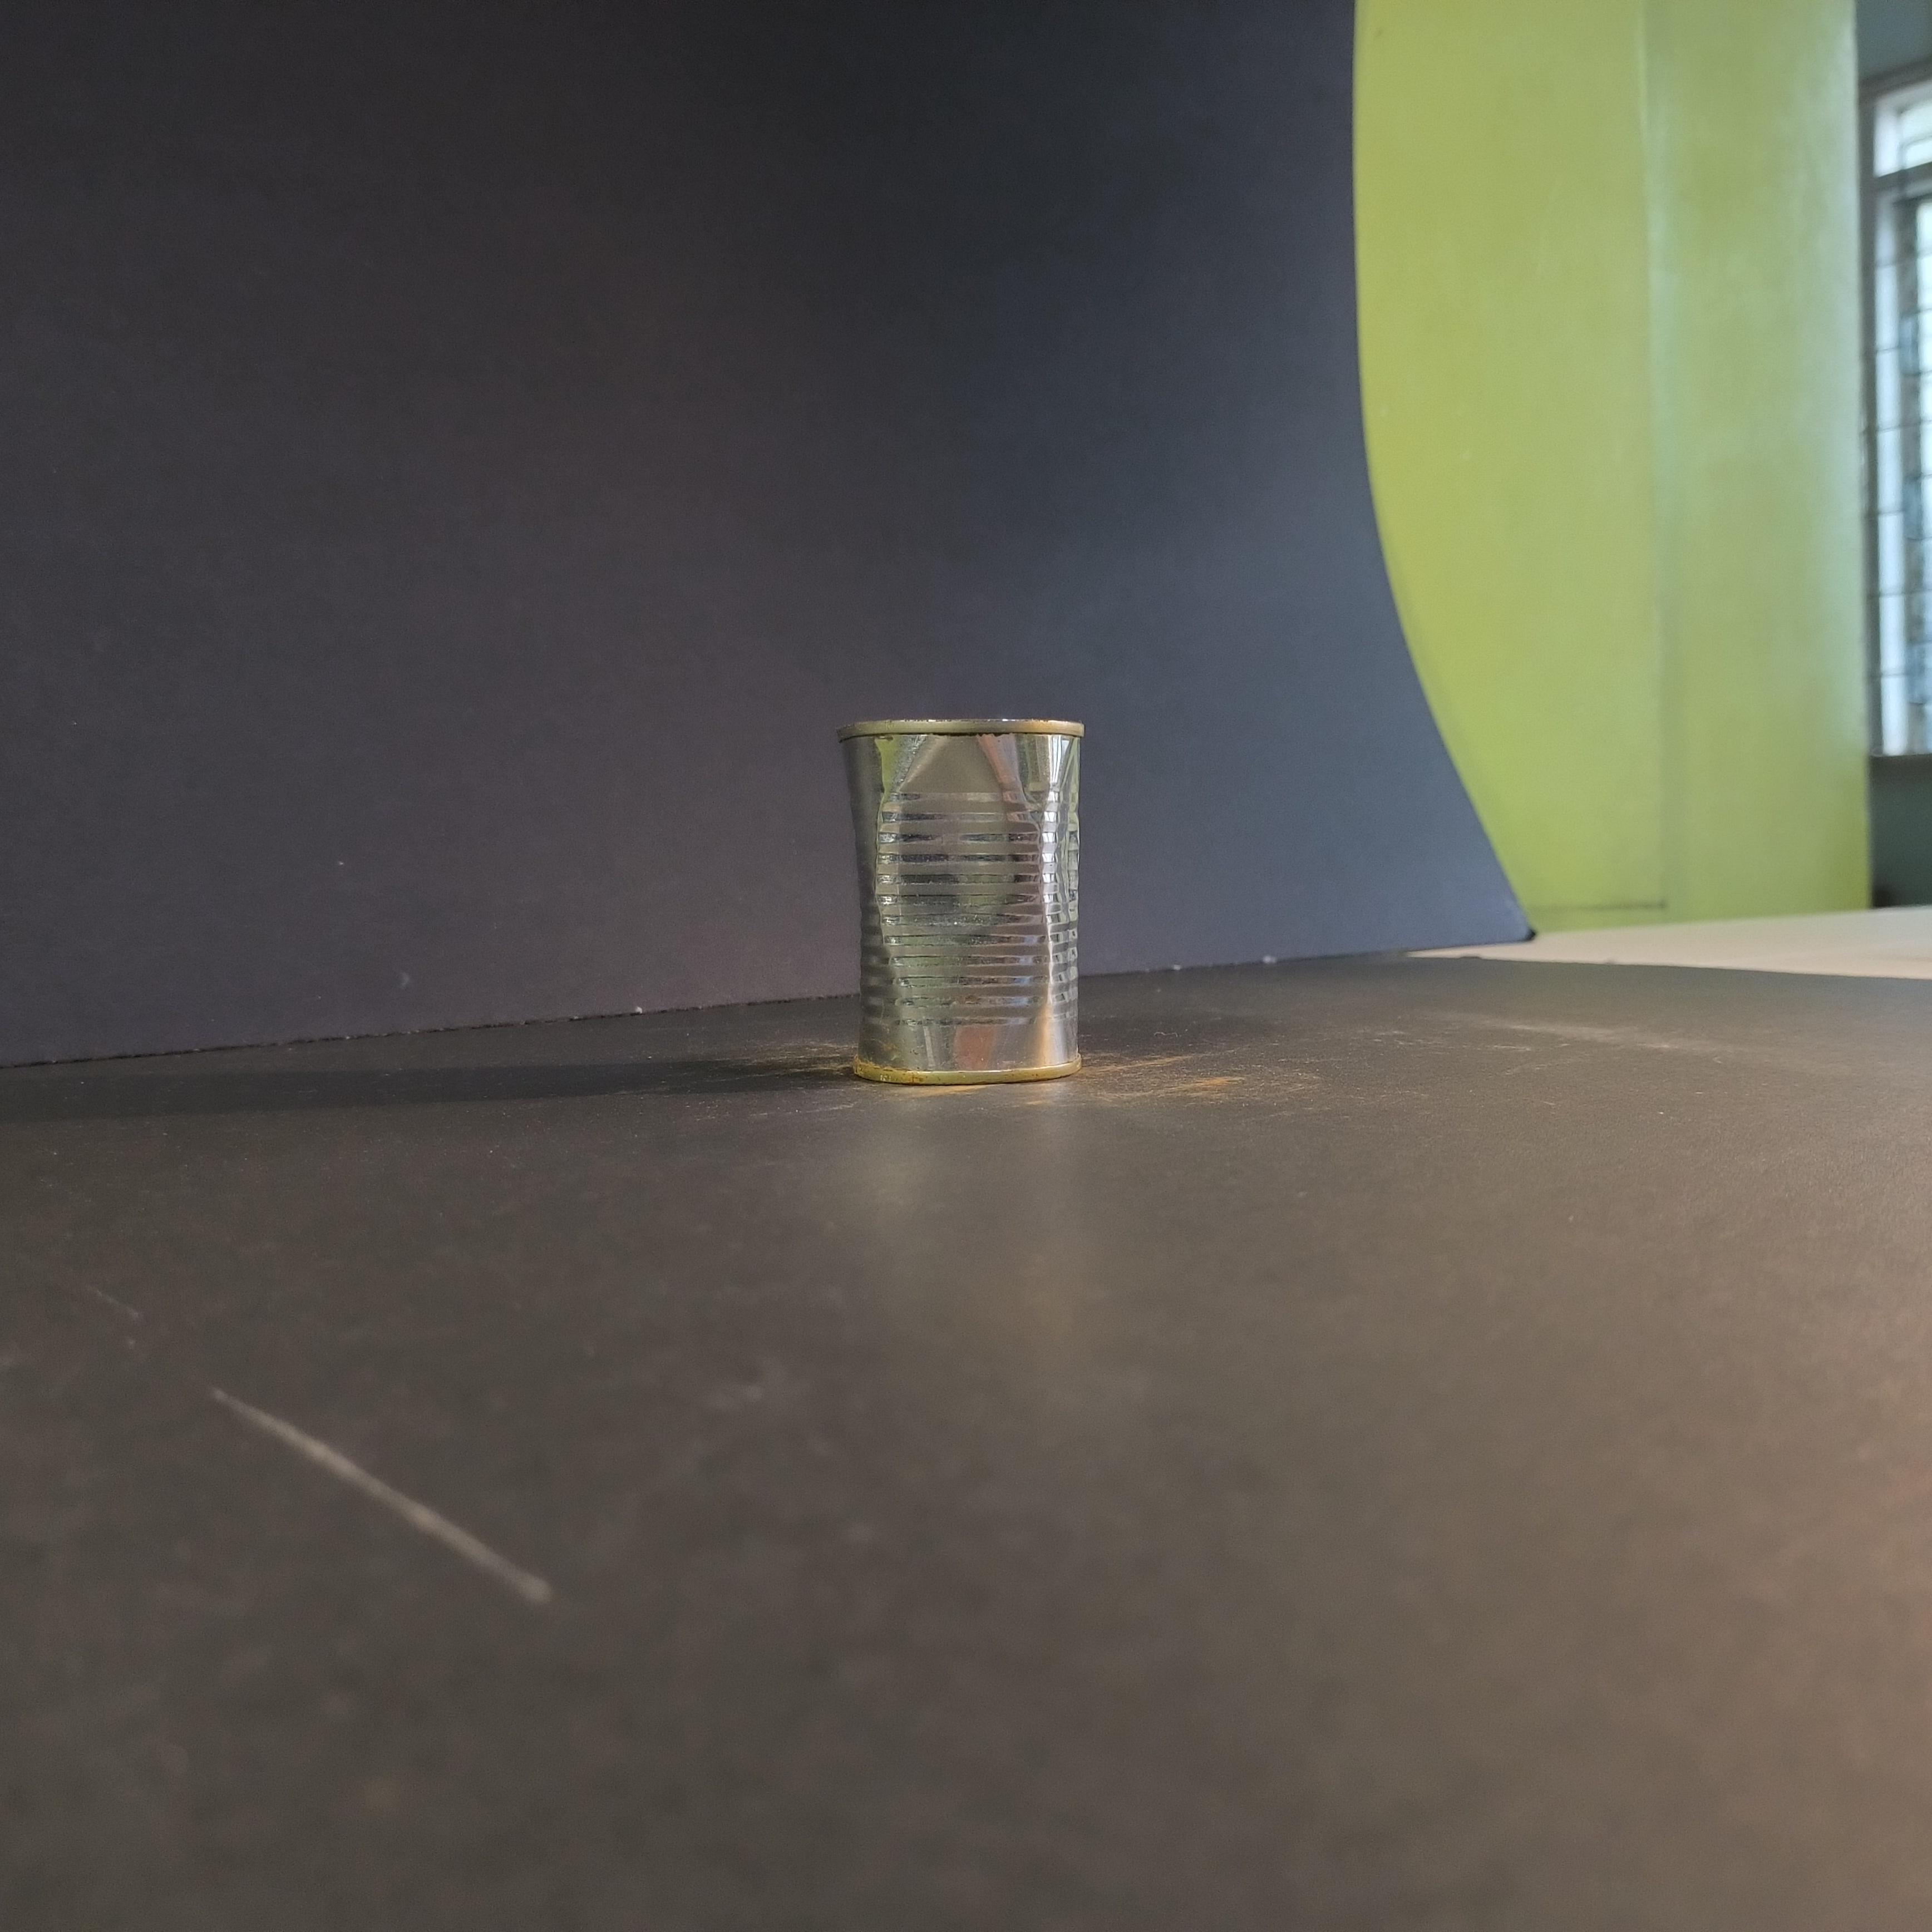Dented: (818, 701, 1113, 1091)
